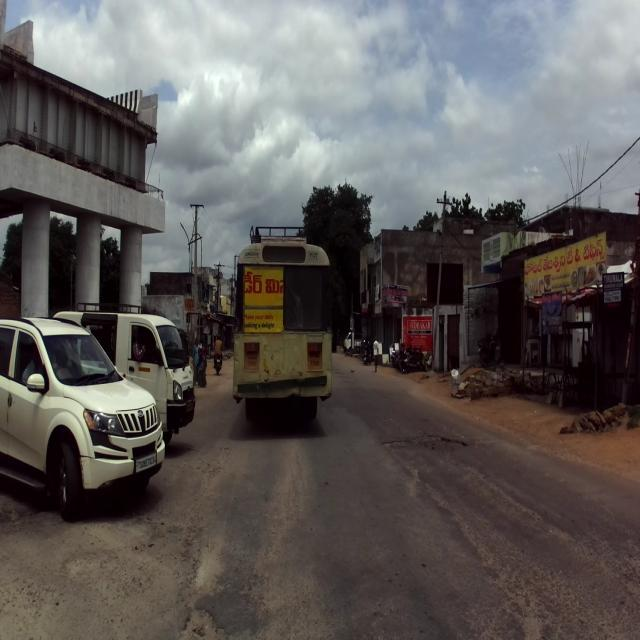pothole: (401, 528, 640, 640), (164, 524, 260, 640), (382, 406, 484, 502), (493, 439, 582, 521)
